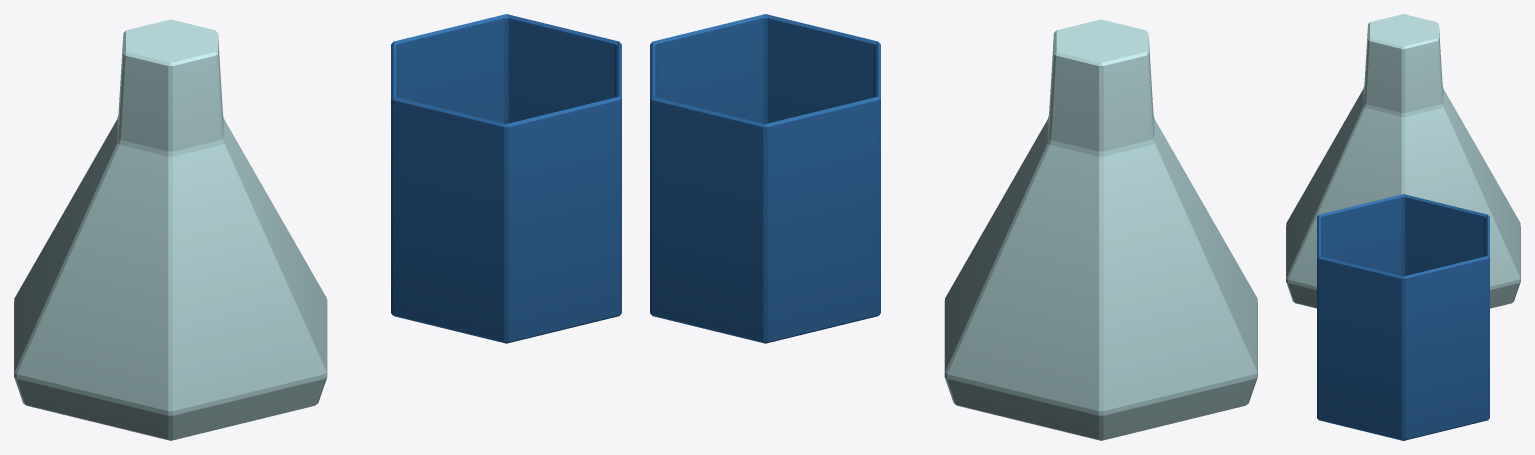
File: flask_beaker.glb
The picture shows the model from 3 angles, left to right: view 1: azimuth 30°, elevation 25°; view 2: azimuth 150°, elevation 25°; view 3: azimuth 270°, elevation 25°; orthographic projection. The views are drawn at different scales.
Visible parts, largest first — view 1: flask_beaker; view 2: flask_beaker; view 3: flask_beaker.
Boxes of the visible parts, x1,y1,x2,y2 form: flask_beaker: [14, 14, 621, 440]; flask_beaker: [650, 14, 1257, 440]; flask_beaker: [1286, 14, 1520, 440].
Size of the model in its own units: 0.5771 by 0.3 by 0.2586.
Materials: 1 (1 with a texture image).
